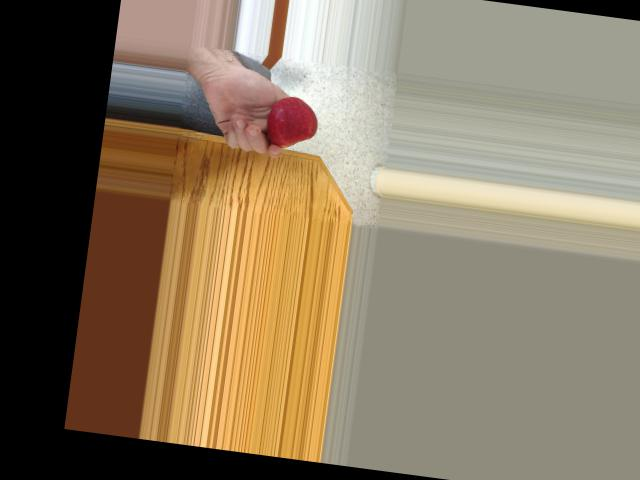apple: (264, 94, 323, 150)
